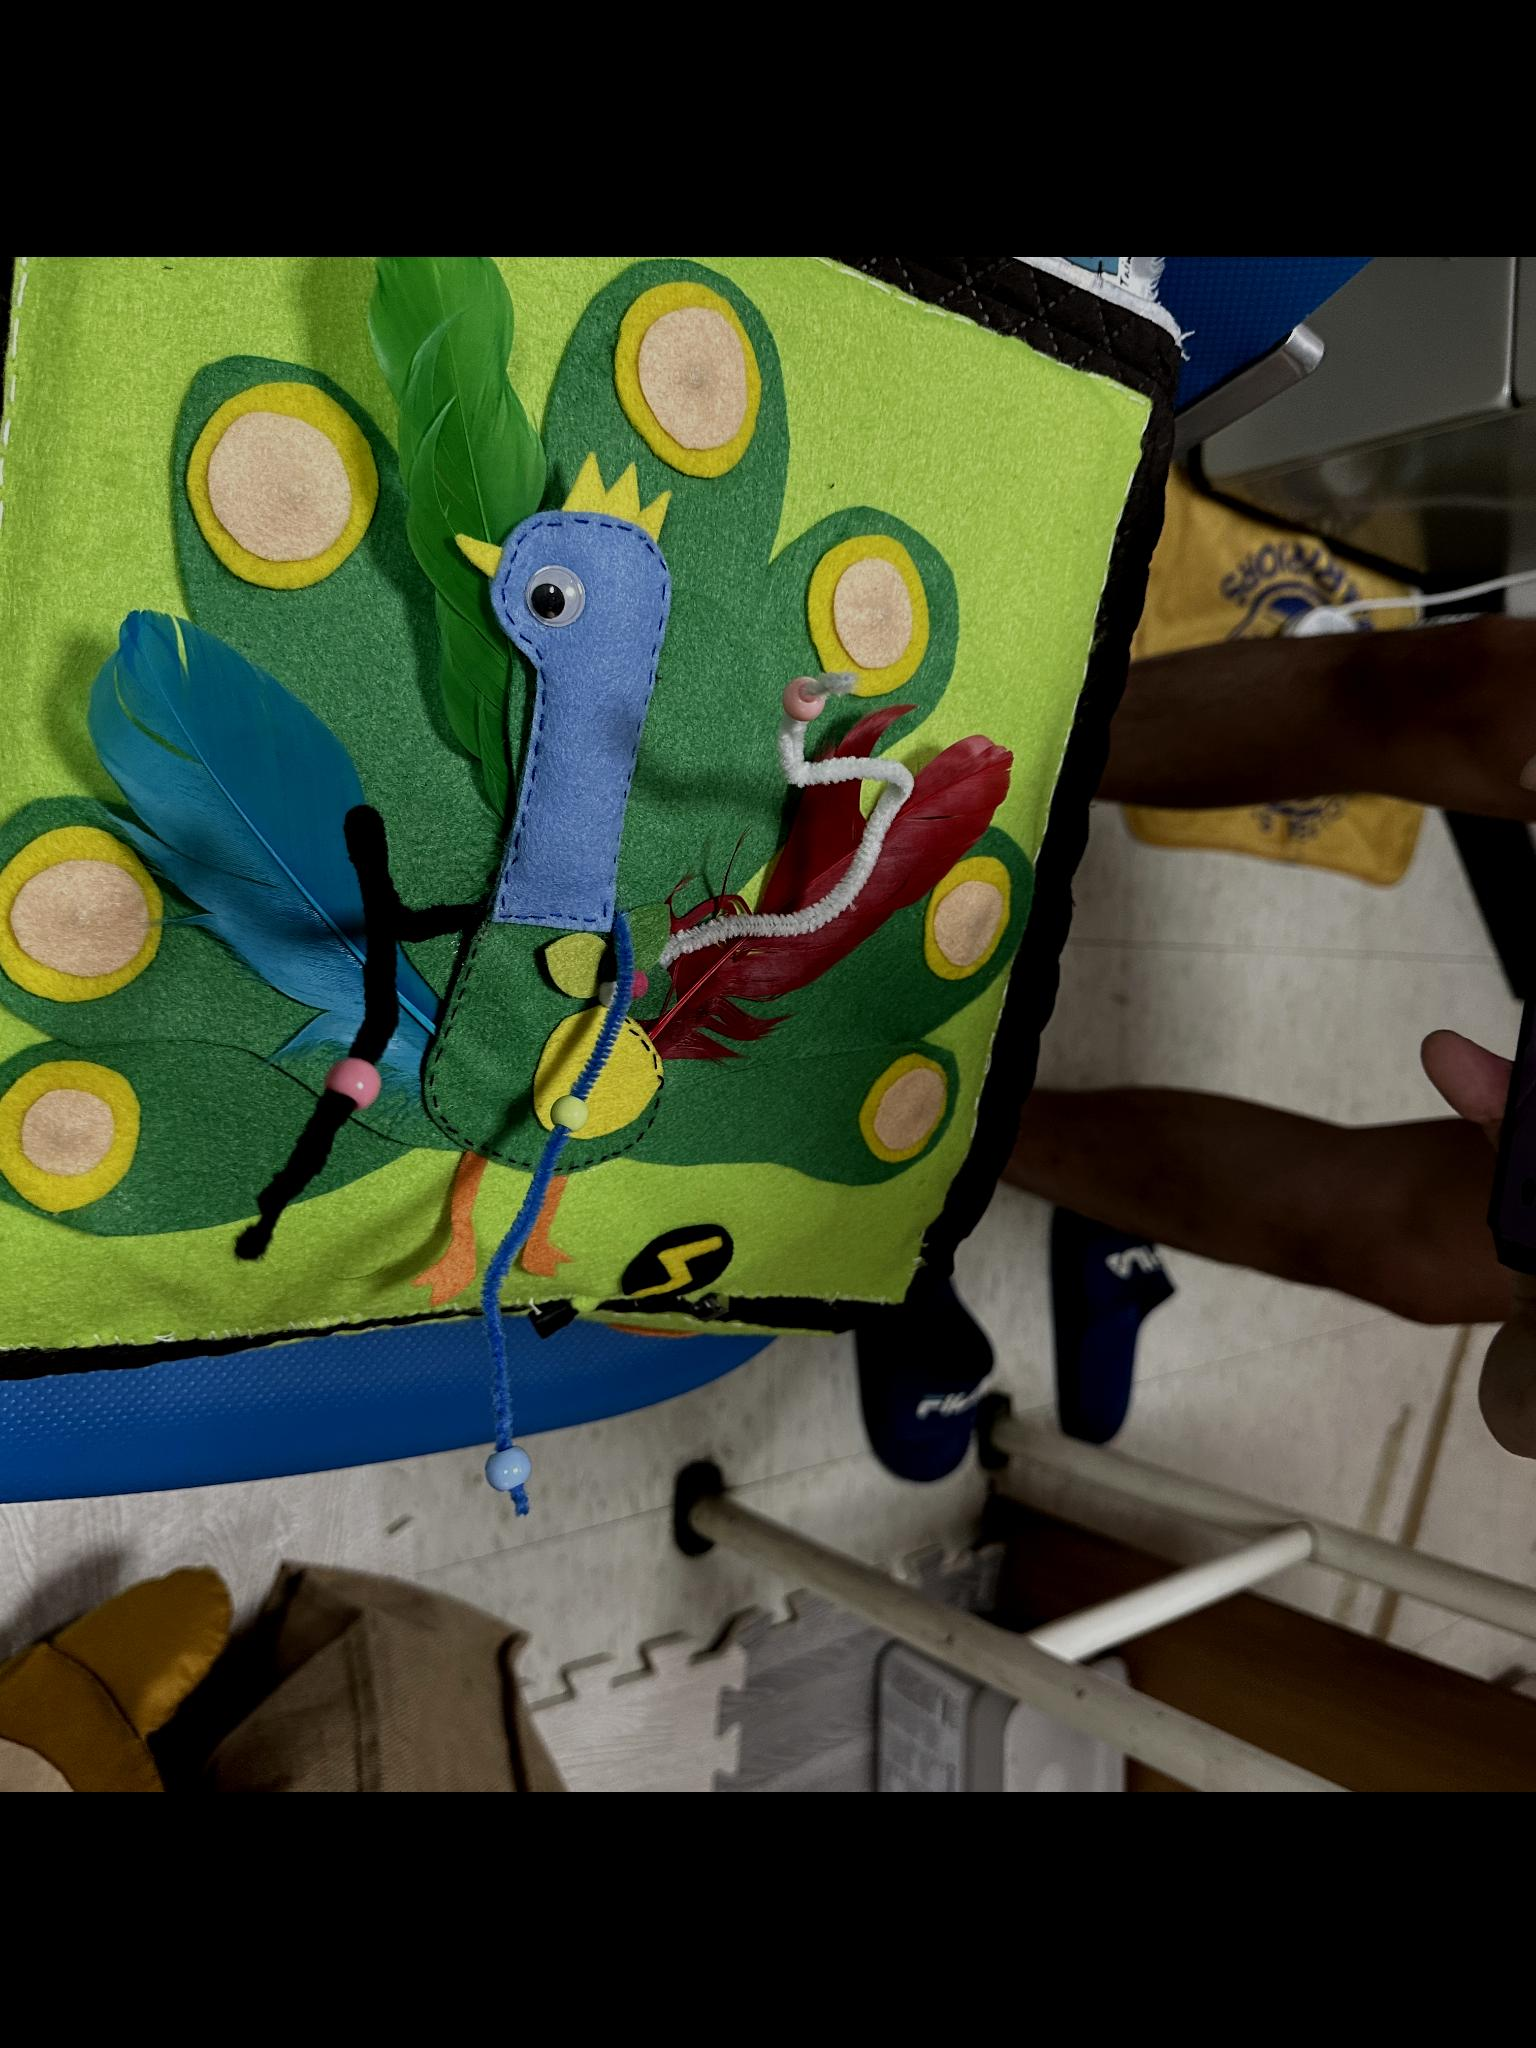bead: (302, 1050, 399, 1122), (526, 1085, 621, 1148), (765, 672, 834, 742), (473, 1435, 545, 1496)
